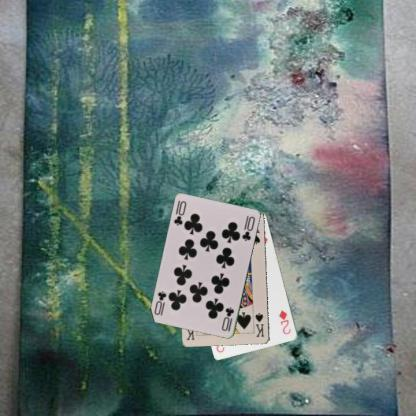10c: (172, 199, 188, 227), (219, 305, 235, 332)
2d: (277, 307, 292, 336)
Ks: (252, 310, 266, 339)
